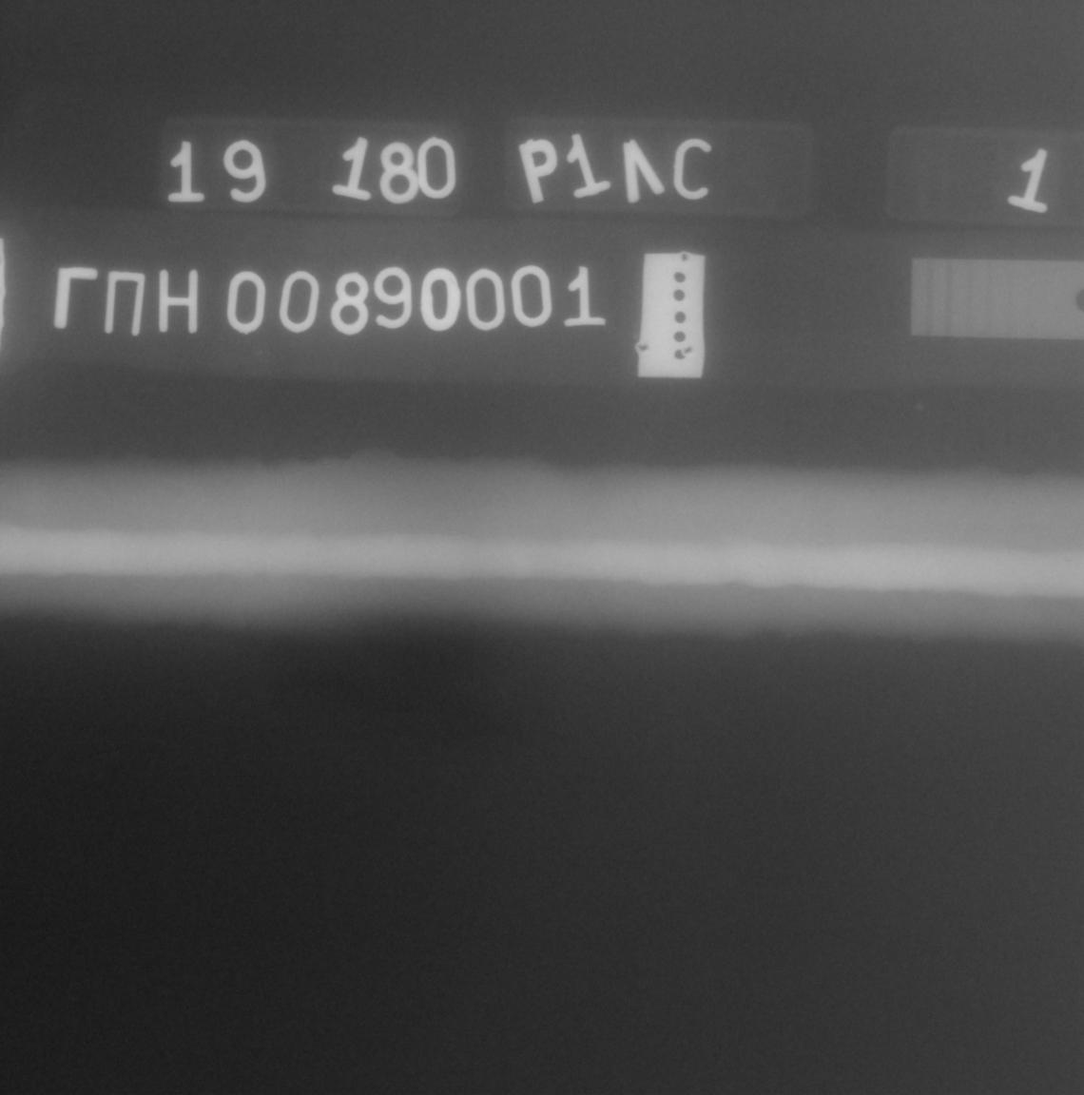Pore/Porosity: (1064, 559, 1073, 564)
